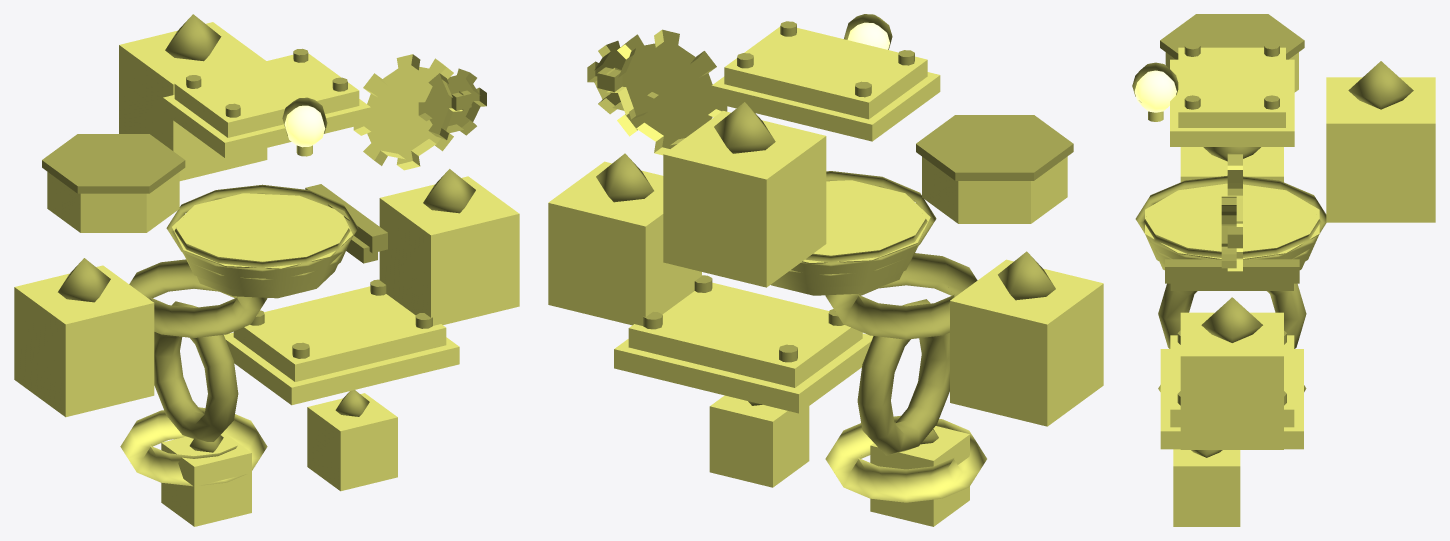
The model's file is golem_002.glb.
The picture shows the model from 3 angles, left to right: view 1: azimuth 30°, elevation 25°; view 2: azimuth 150°, elevation 25°; view 3: azimuth 270°, elevation 25°; orthographic projection. The views are drawn at different scales.
Visible parts, largest first — view 1: Body, Detail, Glow; view 2: Body, Detail, Glow; view 3: Body, Detail, Glow.
Part boxes in pixels (x1,y1,x2,y2): Body: [14, 22, 519, 526]; Detail: [42, 14, 486, 452]; Glow: [284, 105, 325, 147]; Body: [548, 26, 1103, 526]; Detail: [587, 14, 1073, 455]; Glow: [847, 22, 889, 49]; Body: [1145, 47, 1435, 526]; Detail: [1132, 14, 1413, 457]; Glow: [1134, 70, 1176, 112].
Bounding box in the file's own units: 1.28 × 1.11 × 0.7353.
